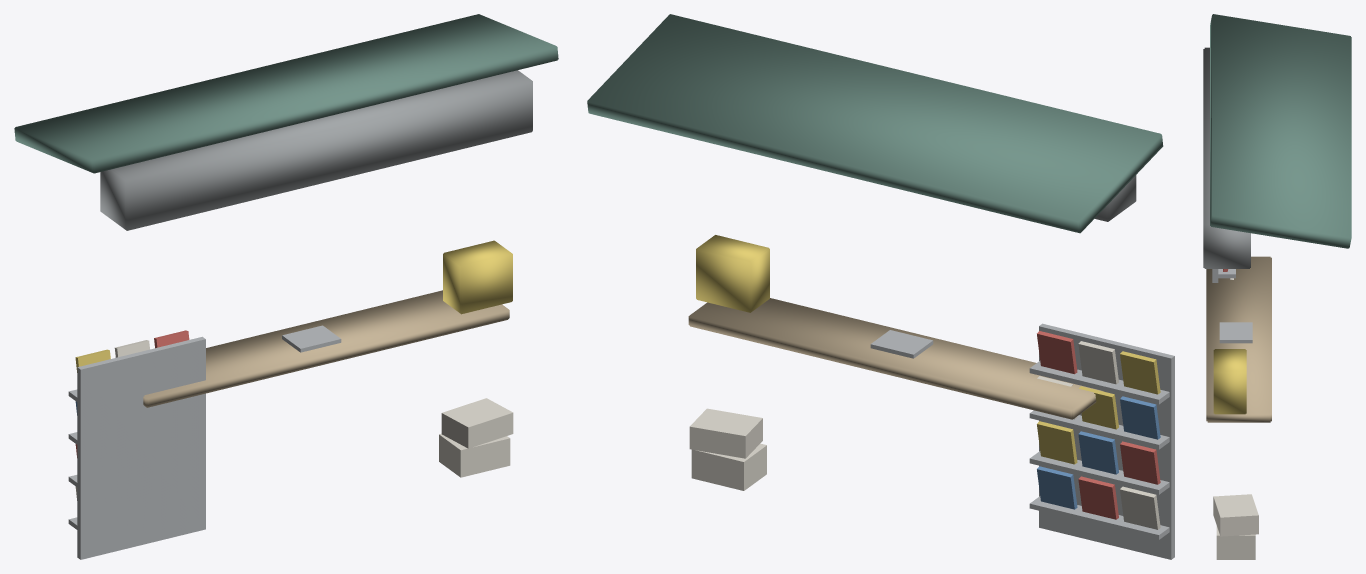
The model's file is trafika_kiosk_96.glb.
3 views of the same model, side by side, from view 1: azimuth 30°, elevation 25°; view 2: azimuth 150°, elevation 25°; view 3: azimuth 270°, elevation 25° (orthographic). The views are drawn at different scales.
Parts seen in each view (by area): view 1: CanopyAwning, ShutterBox, RackFrameBack, ServiceLedge, LotteryBox, NewsStack2, NewsStack1, CoinTray; view 2: CanopyAwning, ServiceLedge, RackFrameBack, LotteryBox, NewsStack2, NewsStack1, RackShelf_3, RackShelf_0, RackShelf_1, RackShelf_2, Mag_0_2, Mag_2_0 (+11 smaller); view 3: CanopyAwning, ServiceLedge, ShutterBox, LotteryBox, NewsStack2, NewsStack1, CoinTray.
Part boxes in pixels (x1,y1,x2,y2): CanopyAwning: [14, 14, 558, 173]; ShutterBox: [100, 70, 532, 230]; RackFrameBack: [77, 336, 205, 559]; ServiceLedge: [143, 290, 509, 407]; LotteryBox: [443, 240, 512, 314]; NewsStack2: [441, 398, 513, 448]; NewsStack1: [439, 433, 510, 477]; CoinTray: [282, 325, 341, 352]; CanopyAwning: [587, 14, 1163, 233]; ServiceLedge: [688, 298, 1104, 419]; RackFrameBack: [1039, 323, 1174, 559]; LotteryBox: [696, 235, 769, 312]; NewsStack2: [689, 408, 762, 458]; NewsStack1: [691, 443, 766, 490]; RackShelf_3: [1029, 361, 1169, 404]; RackShelf_0: [1029, 496, 1169, 539]; RackShelf_1: [1029, 451, 1169, 494]; RackShelf_2: [1029, 410, 1169, 449]; Mag_0_2: [1037, 466, 1077, 509]; Mag_2_0: [1120, 396, 1160, 439]; CanopyAwning: [1210, 14, 1351, 248]; ServiceLedge: [1206, 256, 1271, 422]; ShutterBox: [1203, 47, 1250, 268]; LotteryBox: [1213, 349, 1246, 414]; NewsStack2: [1213, 494, 1258, 536]; NewsStack1: [1216, 526, 1255, 559]; CoinTray: [1219, 322, 1252, 343].
Size of the model in its own units: 3.28 by 2.7 by 0.9946.
